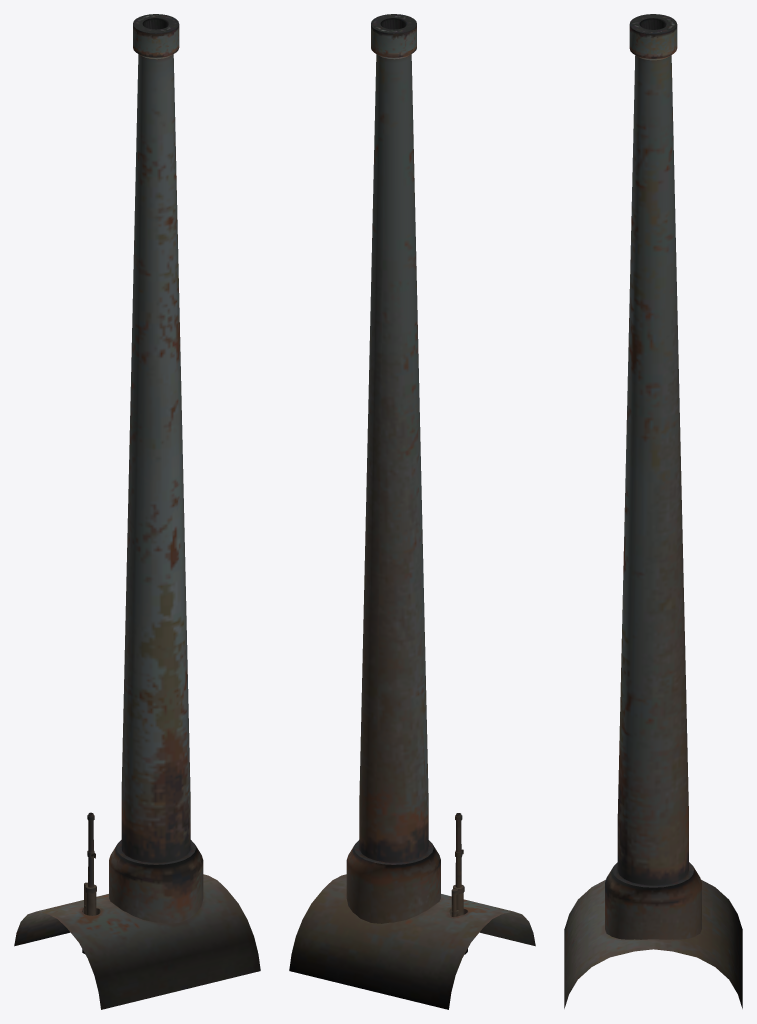
File: Gun_03.glb
3 views of the same model, side by side, from view 1: azimuth 30°, elevation 25°; view 2: azimuth 150°, elevation 25°; view 3: azimuth 270°, elevation 25° (orthographic). The views are drawn at different scales.
Visible parts, largest first — view 1: set_0_group_0; view 2: set_0_group_0; view 3: set_0_group_0.
Boxes of the visible parts, x1,y1,x2,y2 form: set_0_group_0: (14, 14, 260, 1009); set_0_group_0: (289, 14, 535, 1009); set_0_group_0: (564, 14, 742, 1008).
Size of the model in its own units: 0.6898 by 3.84 by 0.6501.
Materials: 1 (1 with a texture image).
